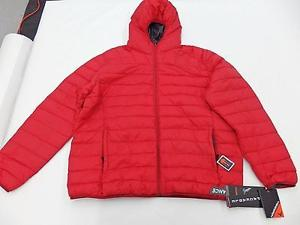C_jacket: (1, 1, 300, 205)
